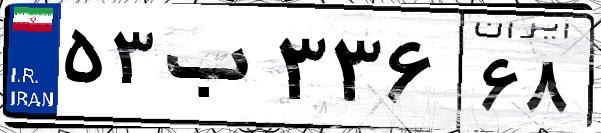3: (270, 28, 330, 110), (330, 28, 385, 110), (110, 28, 158, 98)
5: (57, 26, 110, 100)
6: (385, 28, 445, 110), (475, 38, 525, 113)
8: (525, 38, 570, 115)
ب: (158, 20, 270, 120)
